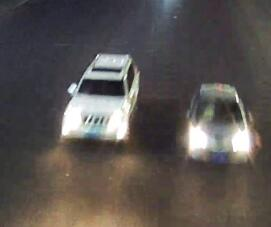car: (61, 50, 143, 146), (183, 78, 255, 166)
